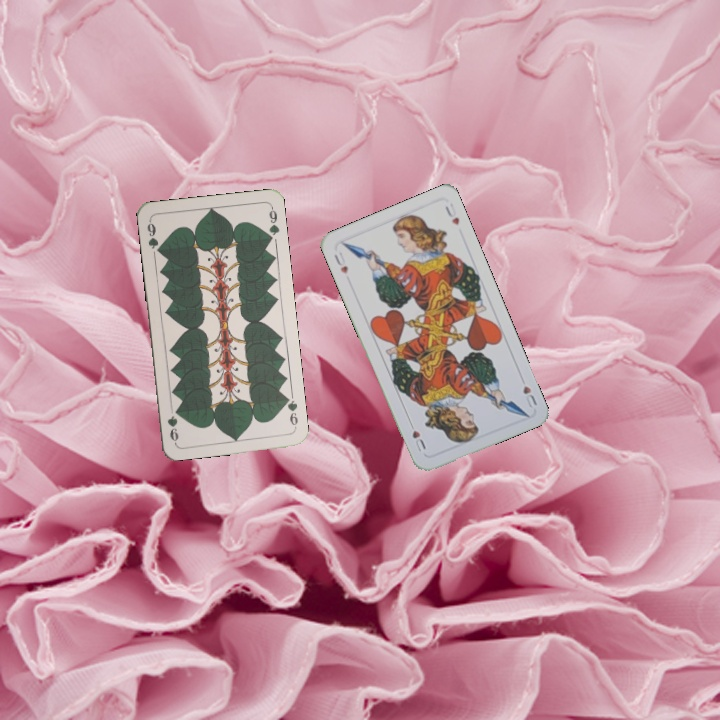G9: (143, 217, 164, 256), (280, 392, 300, 432)
HU: (519, 381, 540, 410), (330, 248, 350, 277)
